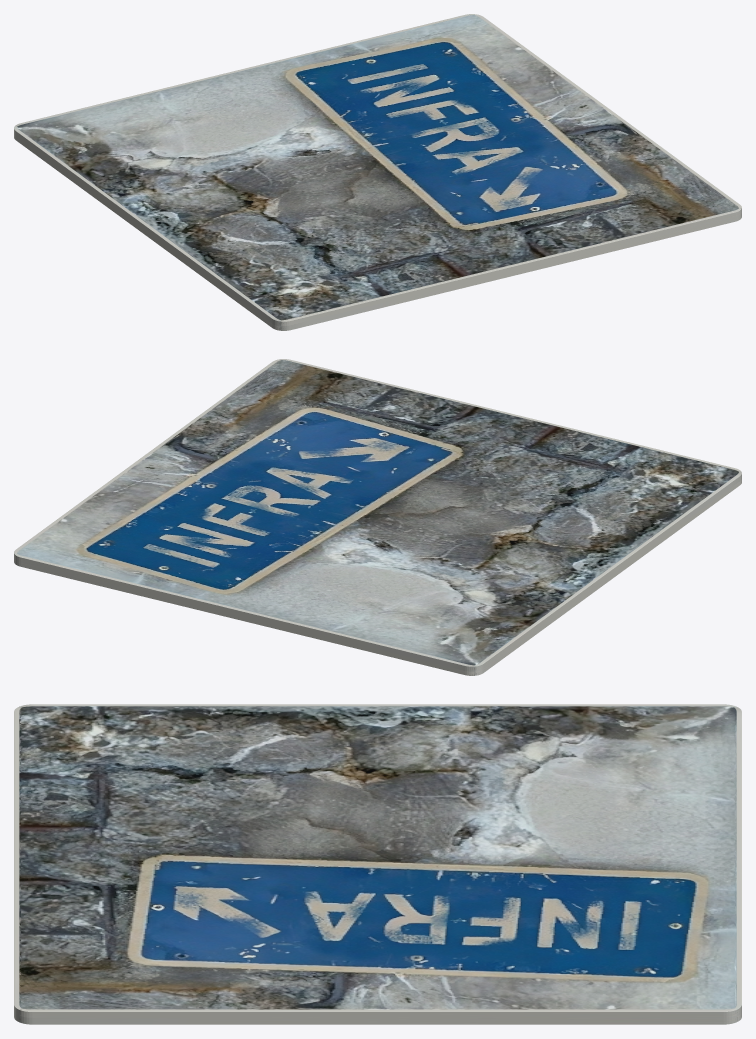
The model's file is mousepad.fbx.
3 renders of one model, top to bottom at view 1: azimuth 30°, elevation 25°; view 2: azimuth 150°, elevation 25°; view 3: azimuth 270°, elevation 25°, orthographic. The views are drawn at different scales.
Visible parts, largest first — view 1: Cube; view 2: Cube; view 3: Cube.
Boxes of the visible parts, bbox=[...] form: Cube: bbox=[14, 14, 741, 330]; Cube: bbox=[14, 359, 741, 675]; Cube: bbox=[14, 704, 741, 1024].
Bounding box in the file's own units: 20 × 0.4 × 20.
Materials: 1 (1 with a texture image).
